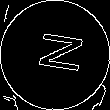N_W: (27, 31, 83, 79)
